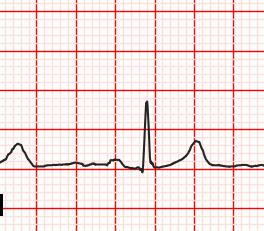LVH: (179, 137, 218, 168)
